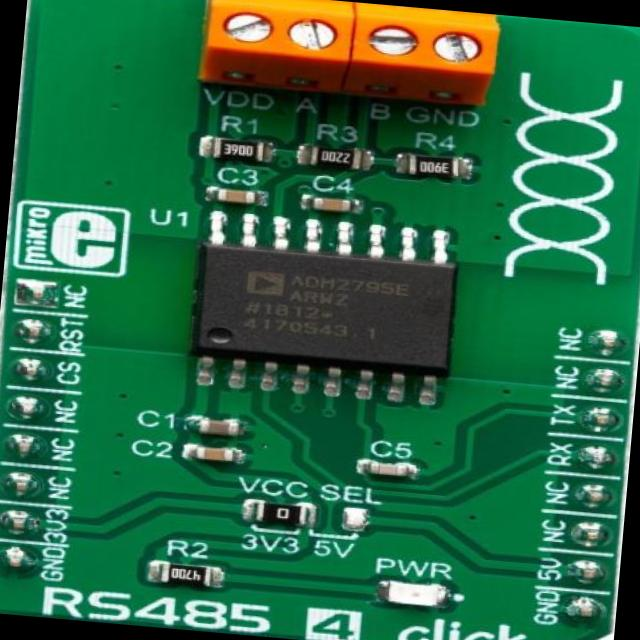IC: (193, 222, 457, 392)
LED: (379, 580, 455, 610)
capacitor: (209, 186, 269, 206), (306, 195, 359, 217), (192, 444, 240, 464), (196, 416, 240, 436), (365, 460, 415, 476)
connector: (349, 2, 496, 107), (198, 0, 353, 93)
resistor: (156, 562, 218, 592), (400, 154, 463, 182), (253, 498, 305, 525), (304, 146, 361, 168), (214, 136, 260, 160)
